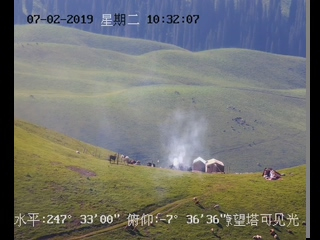smoke: (161, 108, 203, 173)
